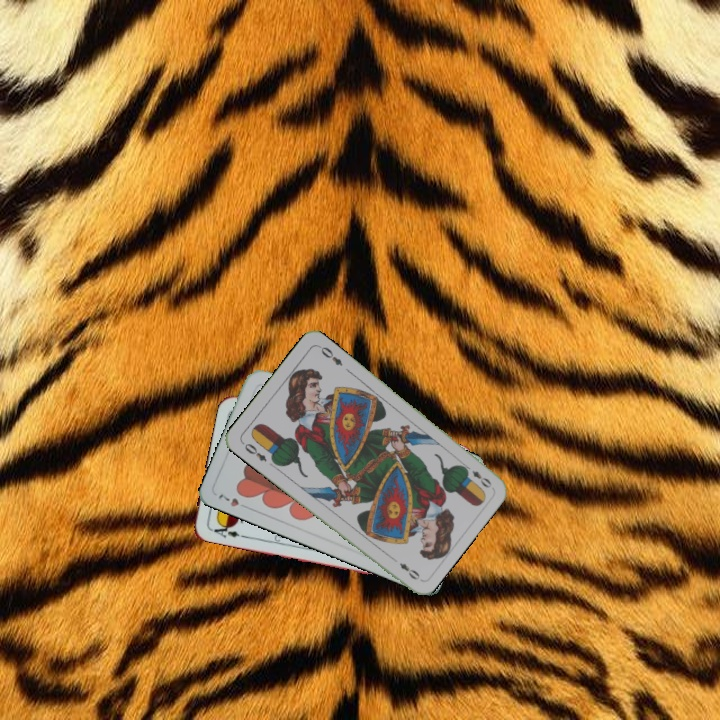EA: (207, 519, 247, 541)
EO: (460, 460, 494, 491), (238, 438, 269, 464)
H7: (214, 490, 252, 512)
